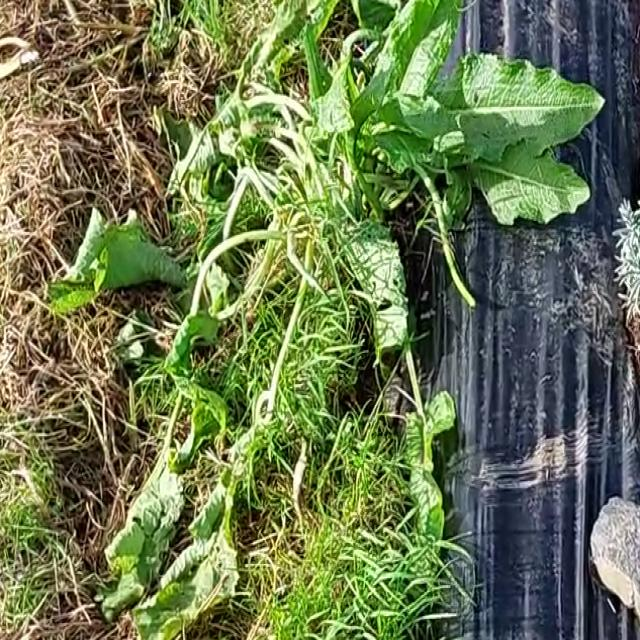organic waste: (39, 0, 586, 266), (61, 298, 292, 640), (20, 165, 246, 348)
